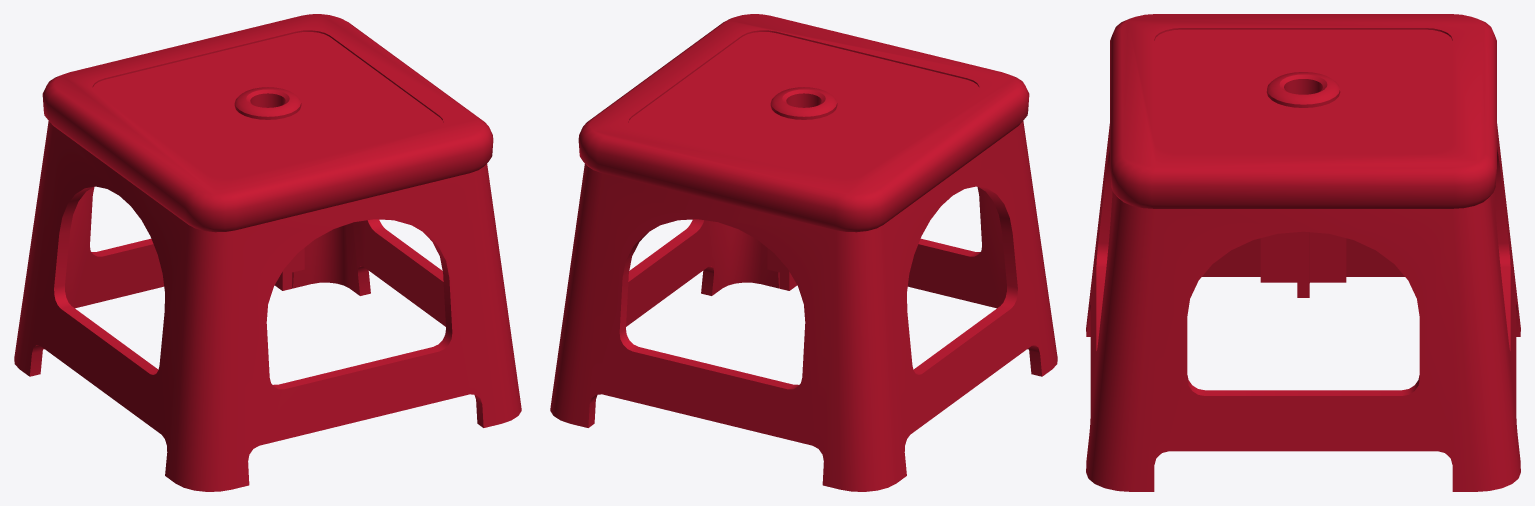
File: VN_PlasticStool_Red.glb
The picture shows the model from 3 angles, left to right: view 1: azimuth 30°, elevation 25°; view 2: azimuth 150°, elevation 25°; view 3: azimuth 270°, elevation 25°; orthographic projection. The views are drawn at different scales.
Parts seen in each view (by area): view 1: VN_PlasticStool_Red; view 2: VN_PlasticStool_Red; view 3: VN_PlasticStool_Red.
Boxes of the visible parts, bbox=[...] form: VN_PlasticStool_Red: bbox=[14, 14, 521, 491]; VN_PlasticStool_Red: bbox=[550, 14, 1057, 491]; VN_PlasticStool_Red: bbox=[1086, 14, 1520, 491].
Bounding box in the file's own units: 0.3439 × 0.2755 × 0.3439.
Materials: 1 (1 with a texture image).
